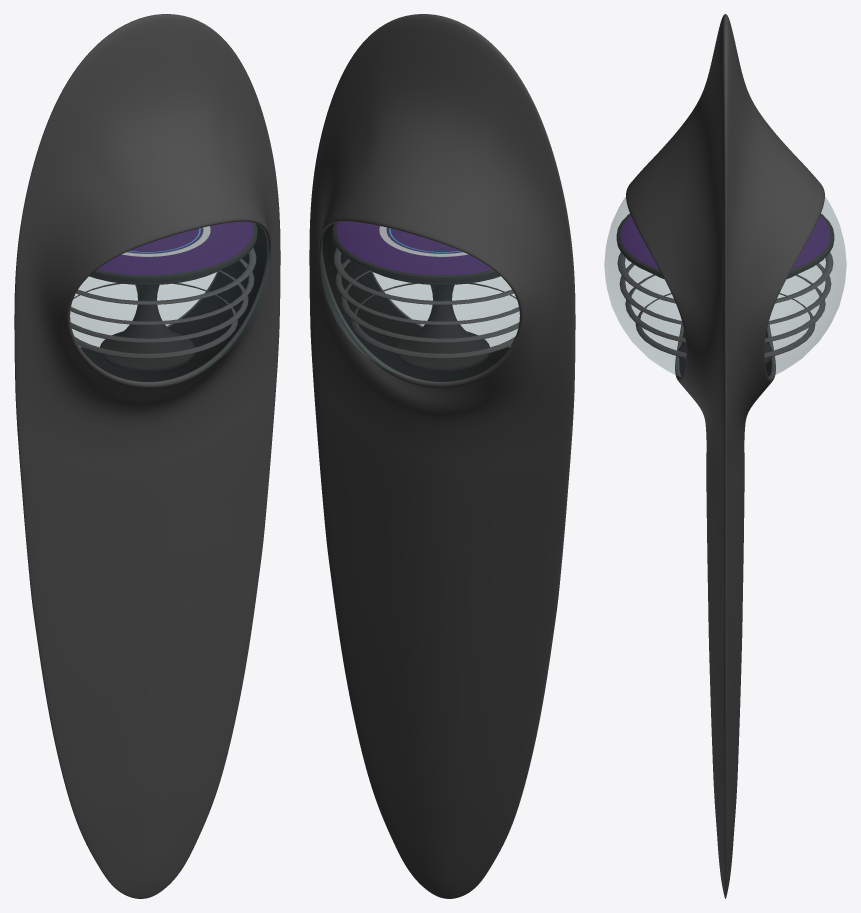
The model's file is cosmos_imagination_spaceship.glb.
3 views of the same model, side by side, from view 1: azimuth 30°, elevation 25°; view 2: azimuth 150°, elevation 25°; view 3: azimuth 270°, elevation 25° (orthographic).
Parts seen in each view (by area): view 1: hull, cockpit_canopy, cockpit_platform, hull_interior, cockpit_rings; view 2: hull, cockpit_canopy, cockpit_platform, hull_interior, cockpit_rings; view 3: hull, cockpit_canopy, cockpit_rings, cockpit_platform.
Part boxes in pixels (left/top/right/bottom): hull: left=14, top=14, right=280, bottom=898; cockpit_canopy: left=70, top=222, right=269, bottom=382; cockpit_platform: left=89, top=221, right=257, bottom=371; hull_interior: left=80, top=223, right=267, bottom=381; cockpit_rings: left=70, top=248, right=256, bottom=358; hull: left=309, top=14, right=575, bottom=898; cockpit_canopy: left=320, top=222, right=519, bottom=382; cockpit_platform: left=332, top=221, right=500, bottom=371; hull_interior: left=322, top=223, right=509, bottom=381; cockpit_rings: left=333, top=248, right=519, bottom=358; hull: left=626, top=14, right=824, bottom=898; cockpit_canopy: left=604, top=197, right=846, bottom=376; cockpit_rings: left=617, top=252, right=833, bottom=358; cockpit_platform: left=616, top=213, right=834, bottom=364.
Bounding box in the file's own units: 3.34 × 10.58 × 2.67.
5 materials, 1 textured.
